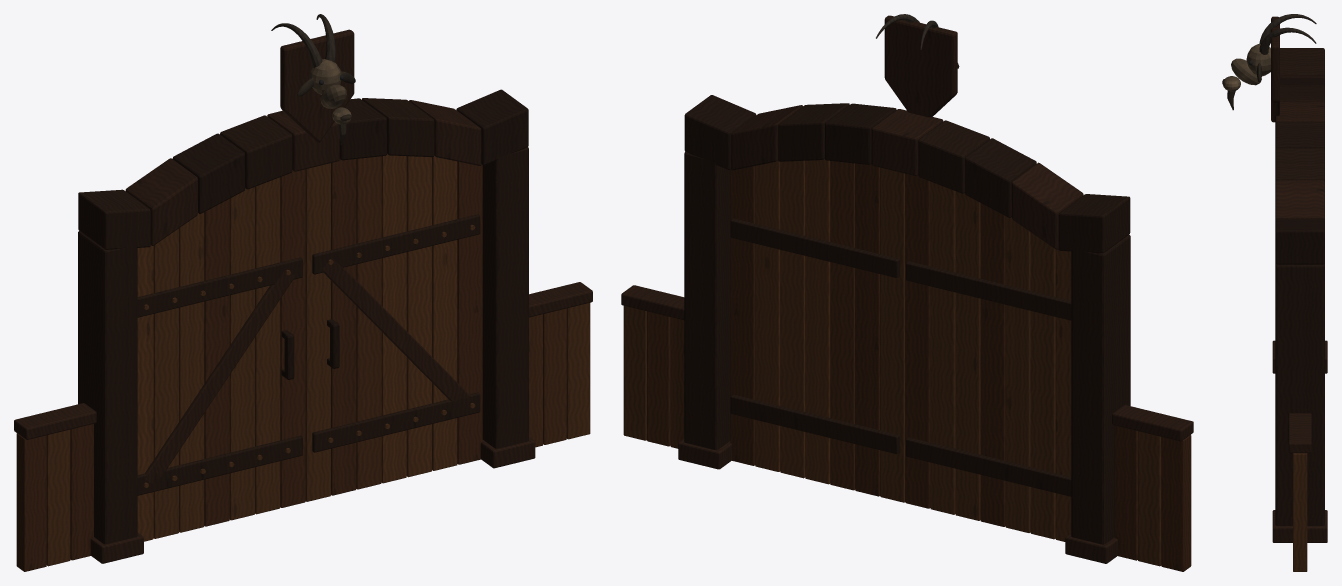
Rendered from taverne.glb.
3 views of the same model, side by side, from view 1: azimuth 30°, elevation 25°; view 2: azimuth 150°, elevation 25°; view 3: azimuth 270°, elevation 25° (orthographic). The views are drawn at different scales.
Parts seen in each view (by area): view 1: taverne_cadre, taverne_battant_d, taverne_battant_g; view 2: taverne_cadre, taverne_battant_d, taverne_battant_g; view 3: taverne_cadre.
Boxes of the visible parts, bbox=[...] form: taverne_cadre: bbox=[14, 14, 592, 571]; taverne_battant_d: bbox=[305, 154, 482, 501]; taverne_battant_g: bbox=[137, 169, 305, 541]; taverne_cadre: bbox=[621, 14, 1193, 571]; taverne_battant_d: bbox=[730, 158, 905, 502]; taverne_battant_g: bbox=[905, 173, 1071, 541]; taverne_cadre: bbox=[1222, 14, 1327, 571].
Size of the model in its own units: 4 by 3.26 by 0.7268.
11 materials, 10 textured.
